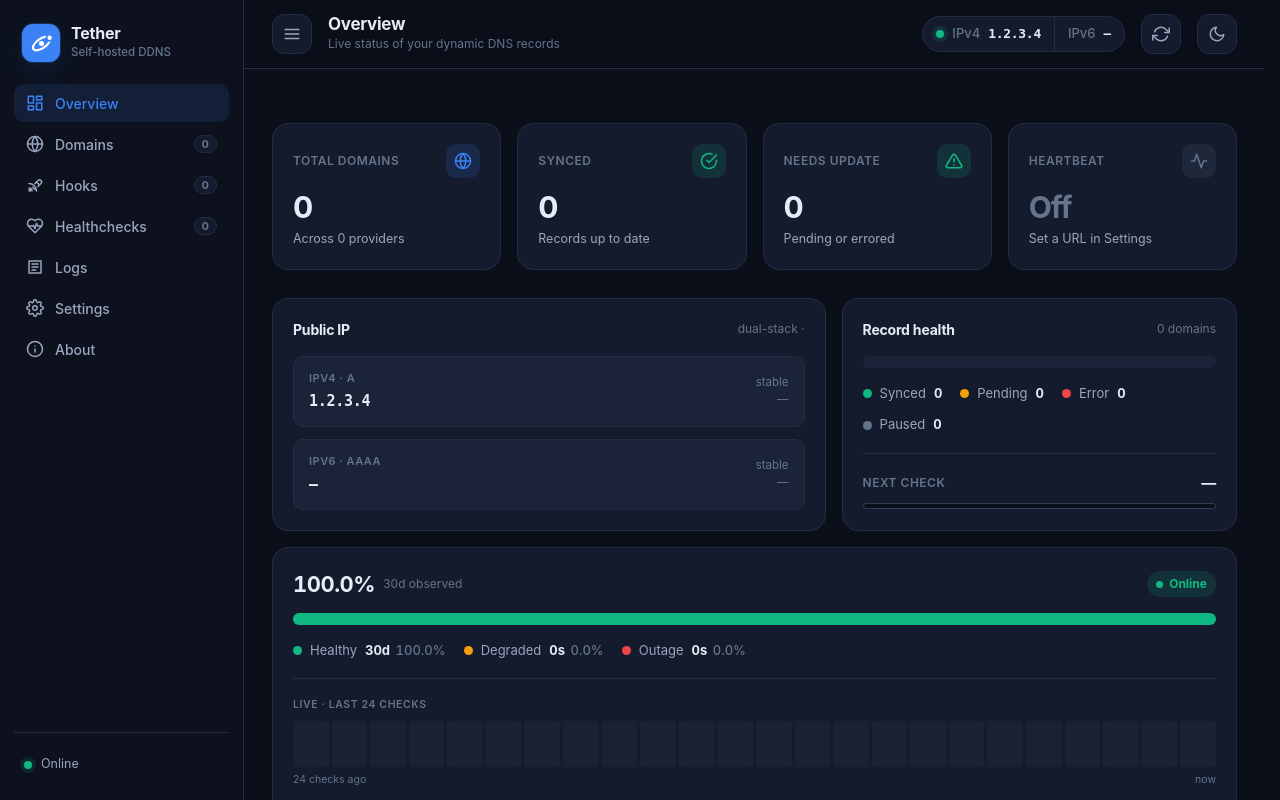
App edit modals › reopening the same record after Cancel shows the stored values again
Click the button "Domains 0" at [122, 144], box top-left (14, 125), bottom-right (229, 163)
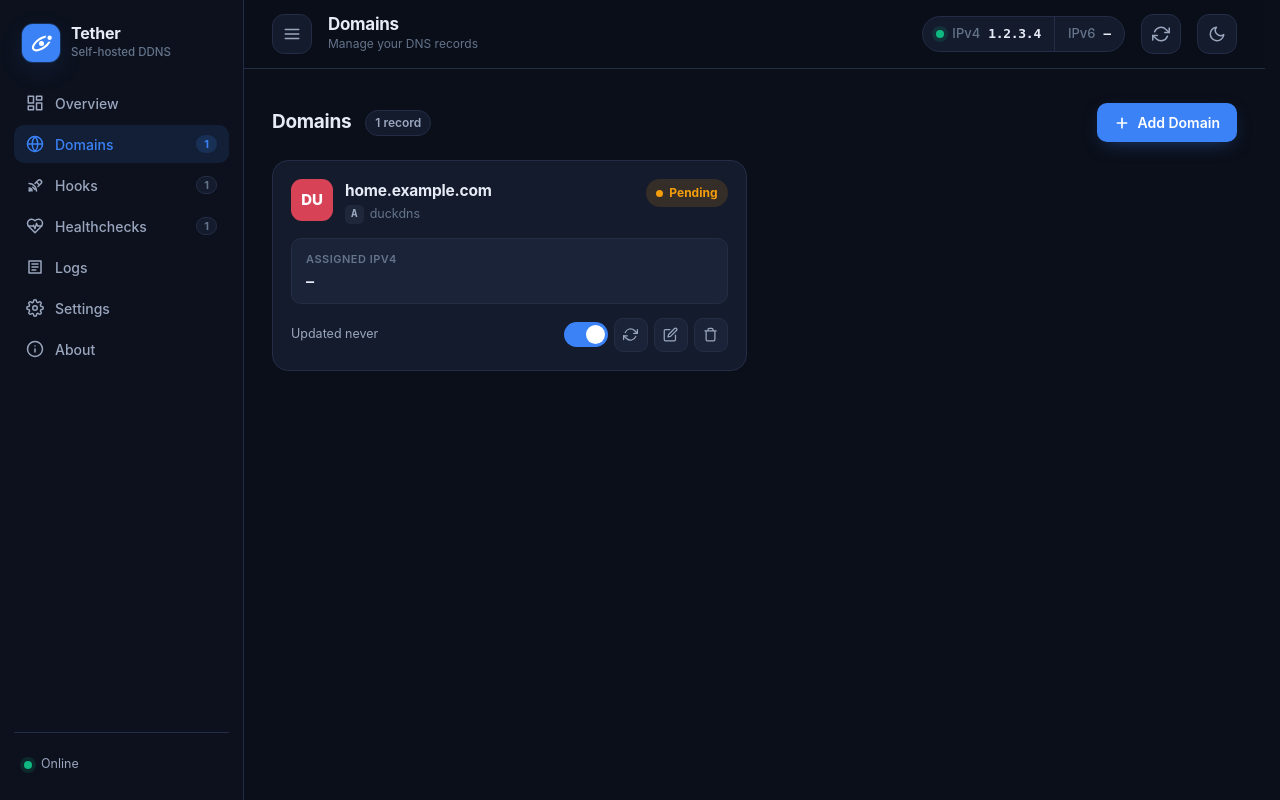
Click the button named "Edit" at [670, 335], box top-left (654, 318), bottom-right (688, 352)
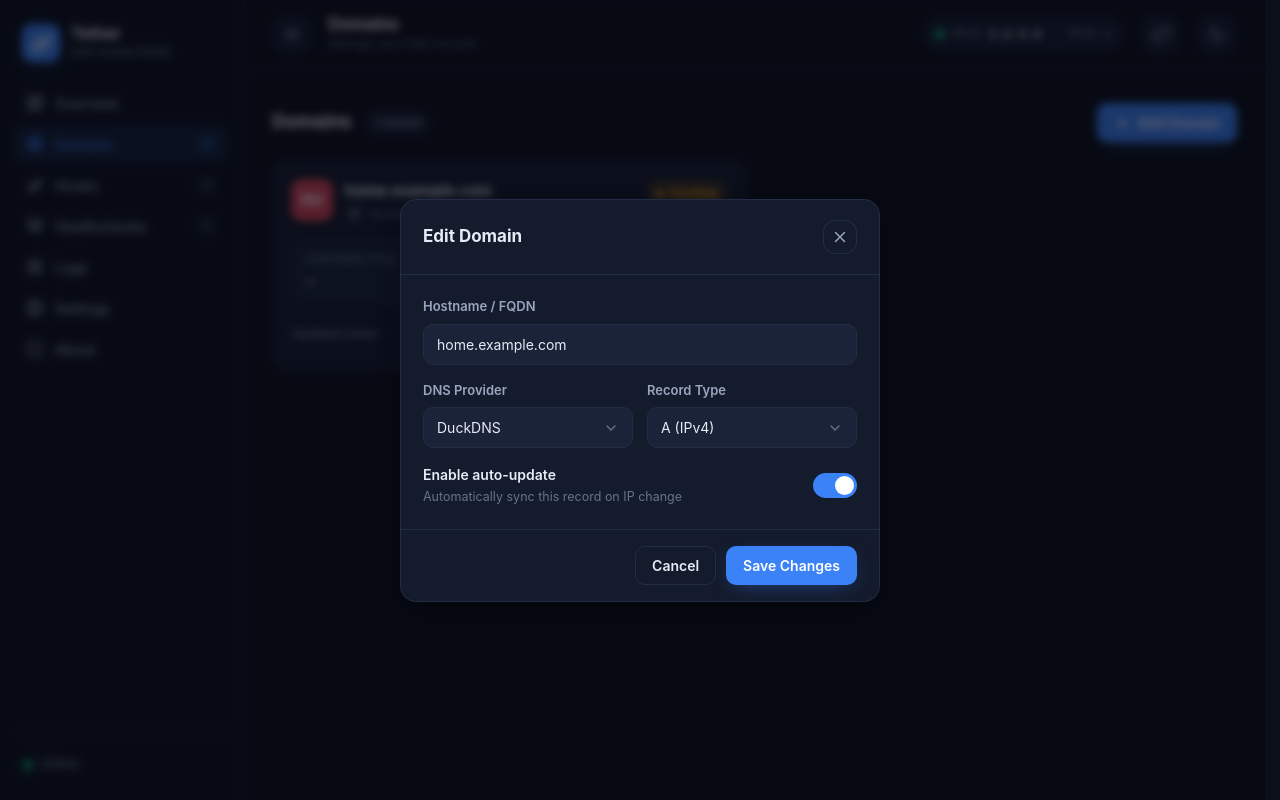
Type "typed" into the field labelled "Hostname / FQDN" at [640, 344], box top-left (423, 323), bottom-right (857, 364)
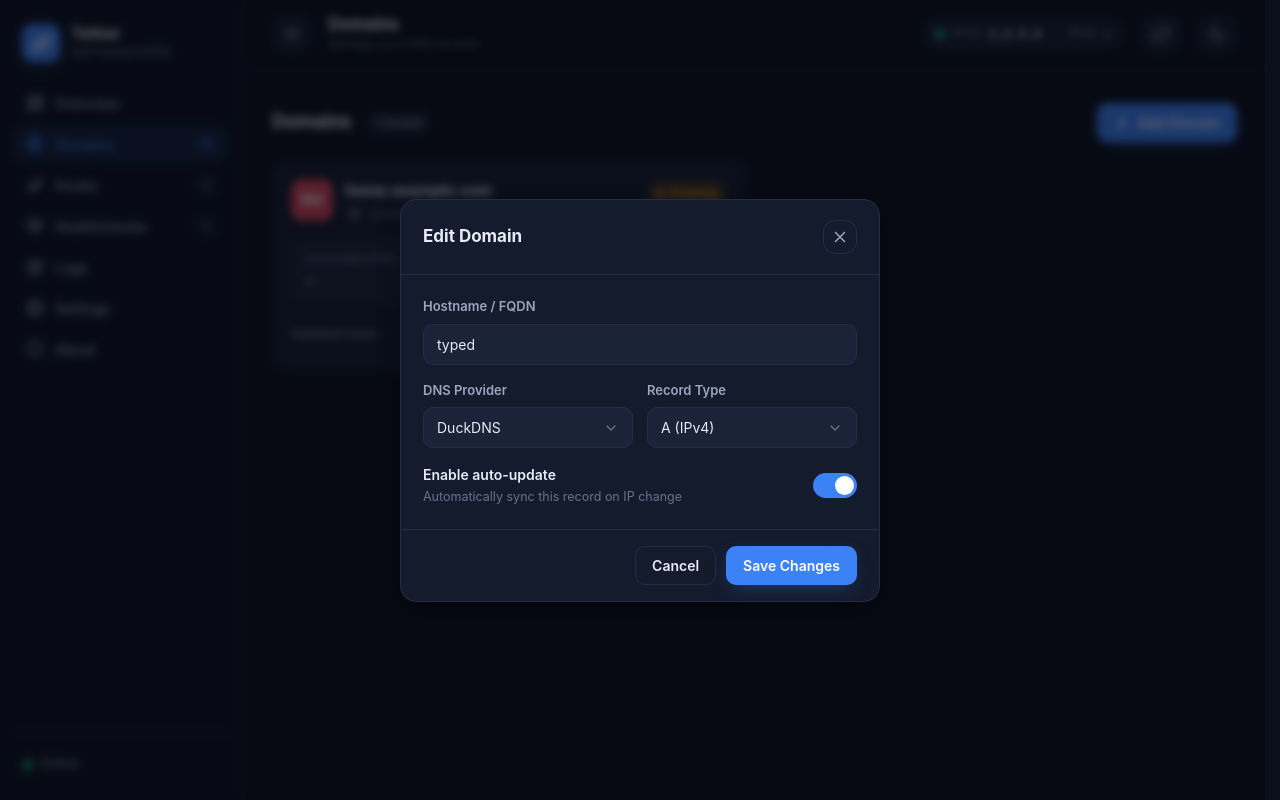
Click the button "Cancel" at [676, 565], box top-left (635, 545), bottom-right (716, 584)
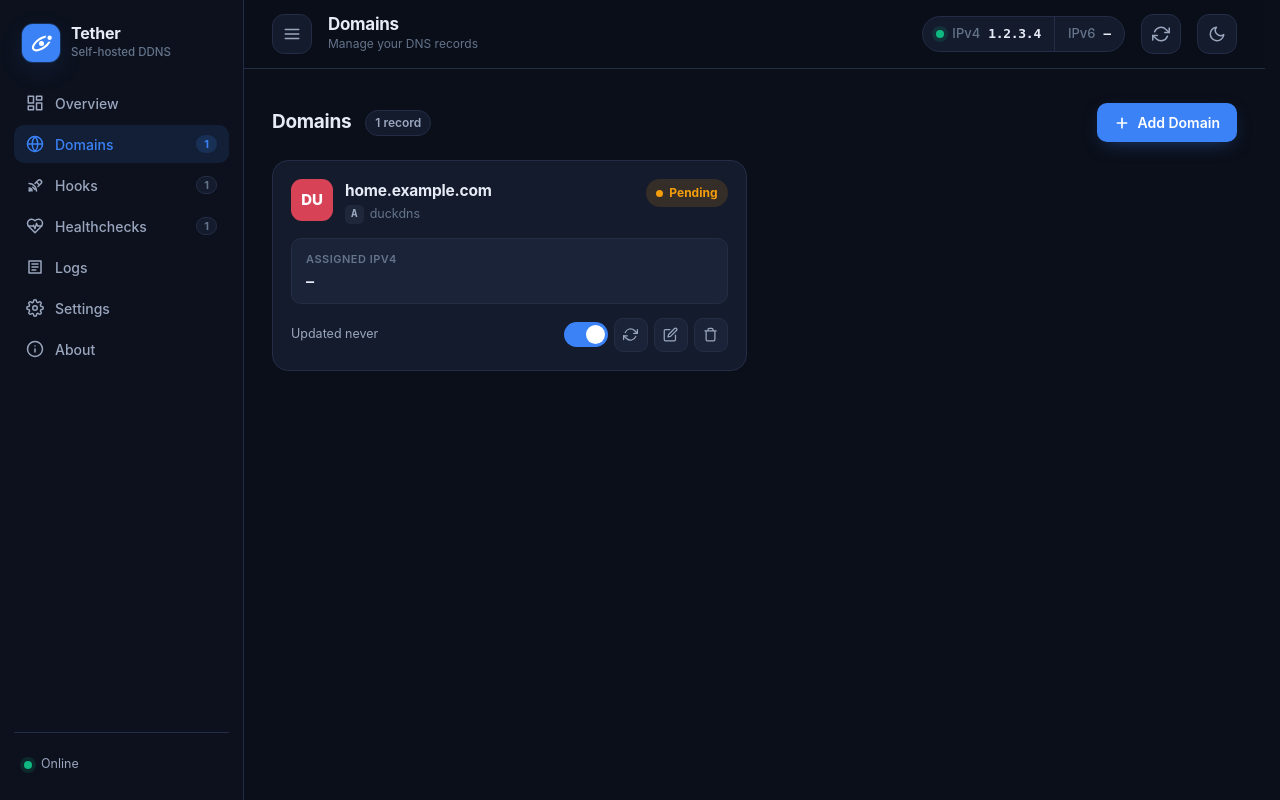
Click the button named "Edit" at [670, 335], box top-left (654, 318), bottom-right (688, 352)
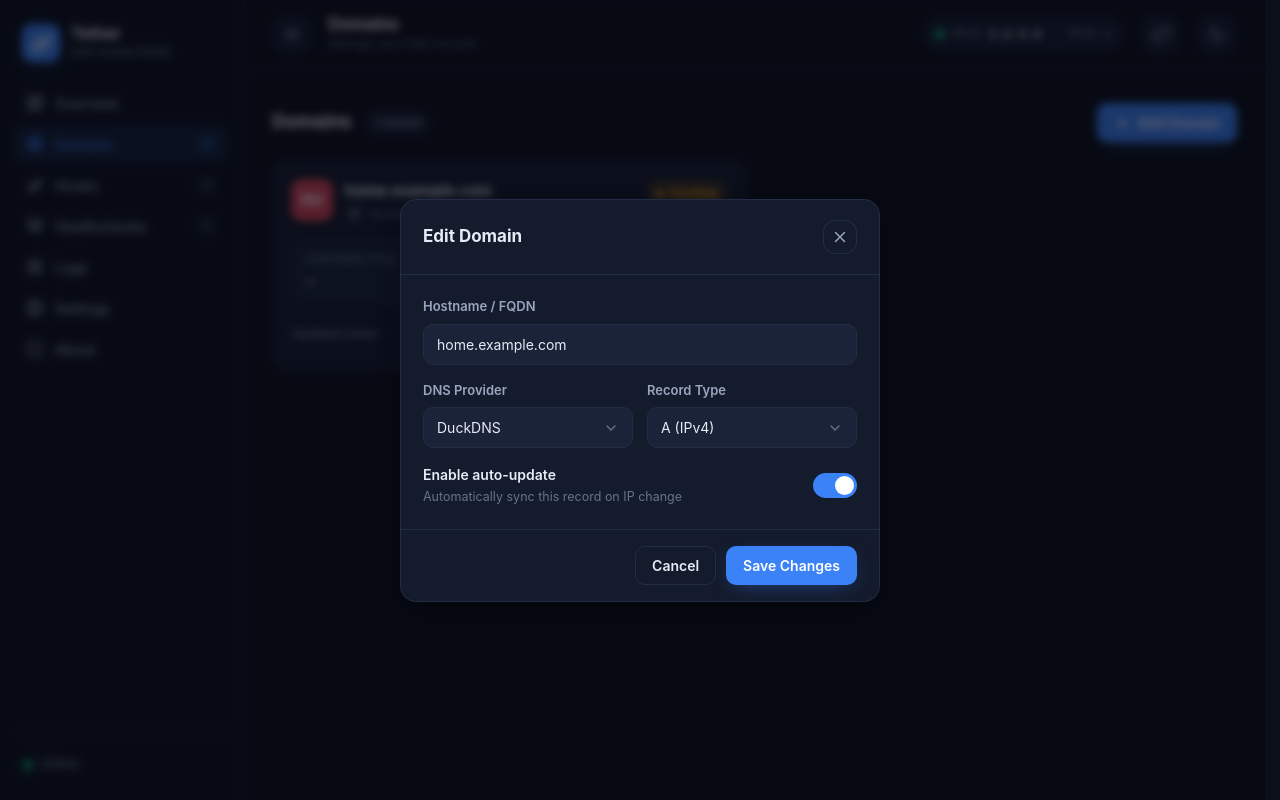
Expected: the field labelled "Hostname / FQDN" holds "home.example.com", top-left (423, 323), bottom-right (857, 364)
